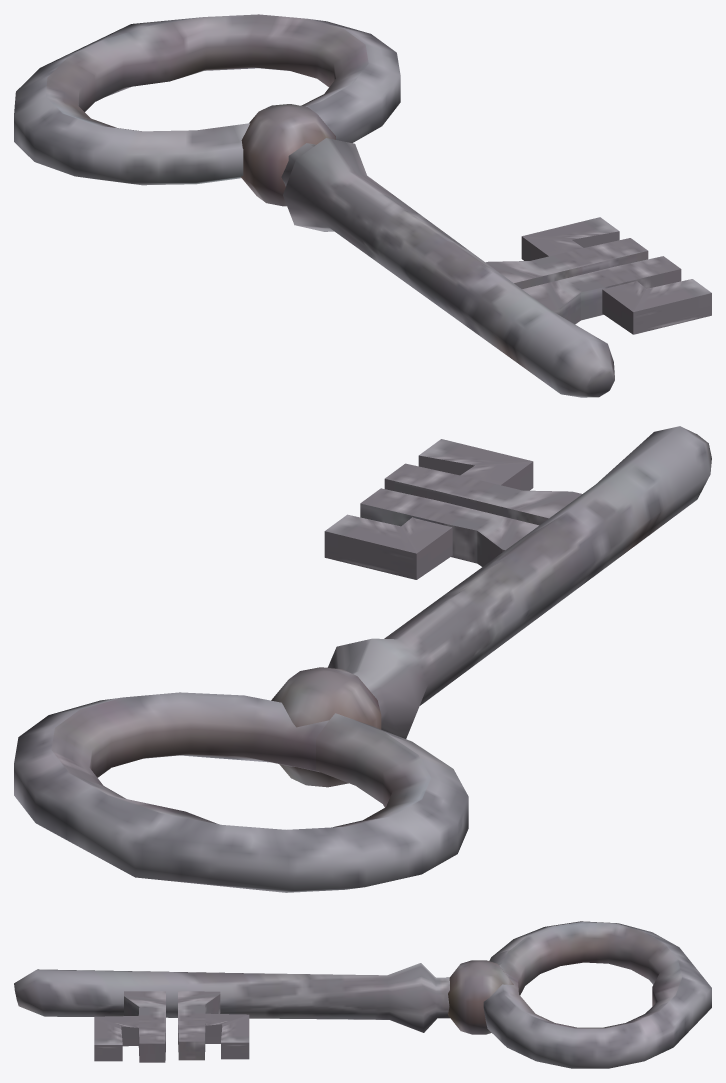
Rendered from key-metal.glb.
3 views of the same model, one above another, from view 1: azimuth 30°, elevation 25°; view 2: azimuth 150°, elevation 25°; view 3: azimuth 270°, elevation 25° (orthographic). The views are drawn at different scales.
Visible parts, largest first — view 1: Key_Metal; view 2: Key_Metal; view 3: Key_Metal.
Part boxes in pixels (x1,y1,x2,y2): Key_Metal: (14, 14, 711, 397); Key_Metal: (14, 426, 711, 892); Key_Metal: (14, 921, 711, 1068).
Bounding box in the file's own units: 0.048 × 0.0124 × 0.111.
Materials: 1 (1 with a texture image).
